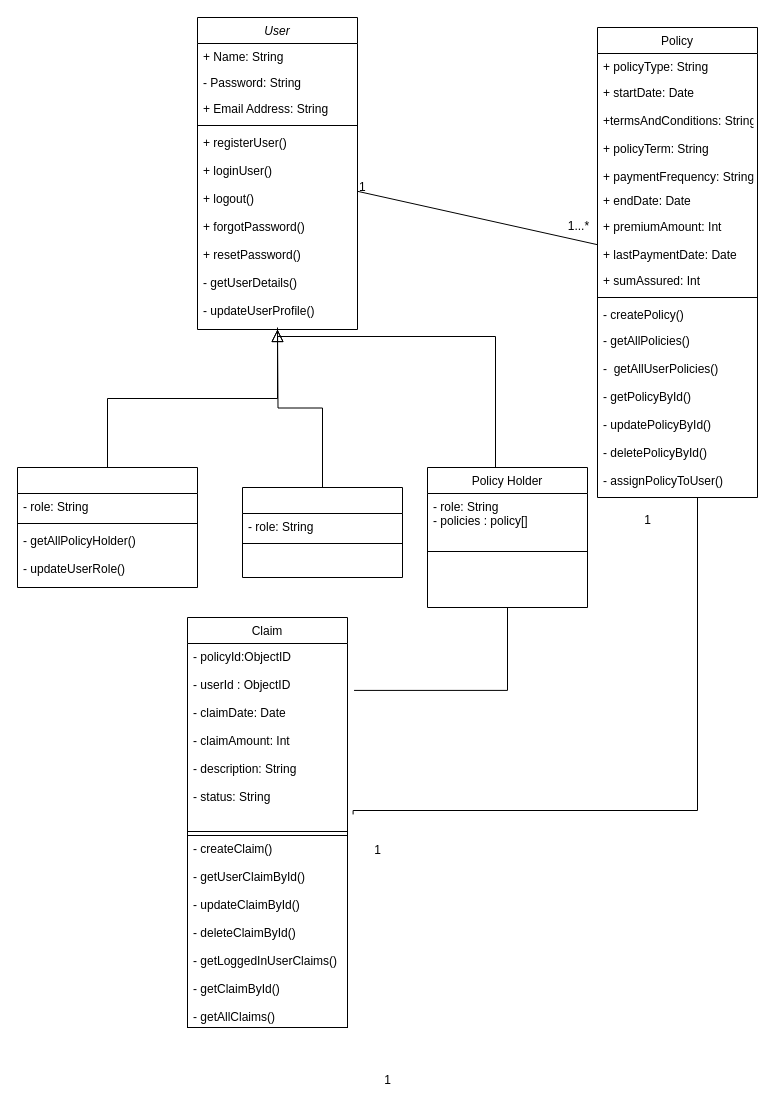
Some shapes in this 775 by 1113 pixel diagram are drawn without their labels. The shapes that lost their labels are listed below. From the top down, each one's box as (x1, y1, x2, y2) in pixels, then its label:
(16, 466, 198, 588): Admin
(242, 486, 402, 578): Third Party Authority
